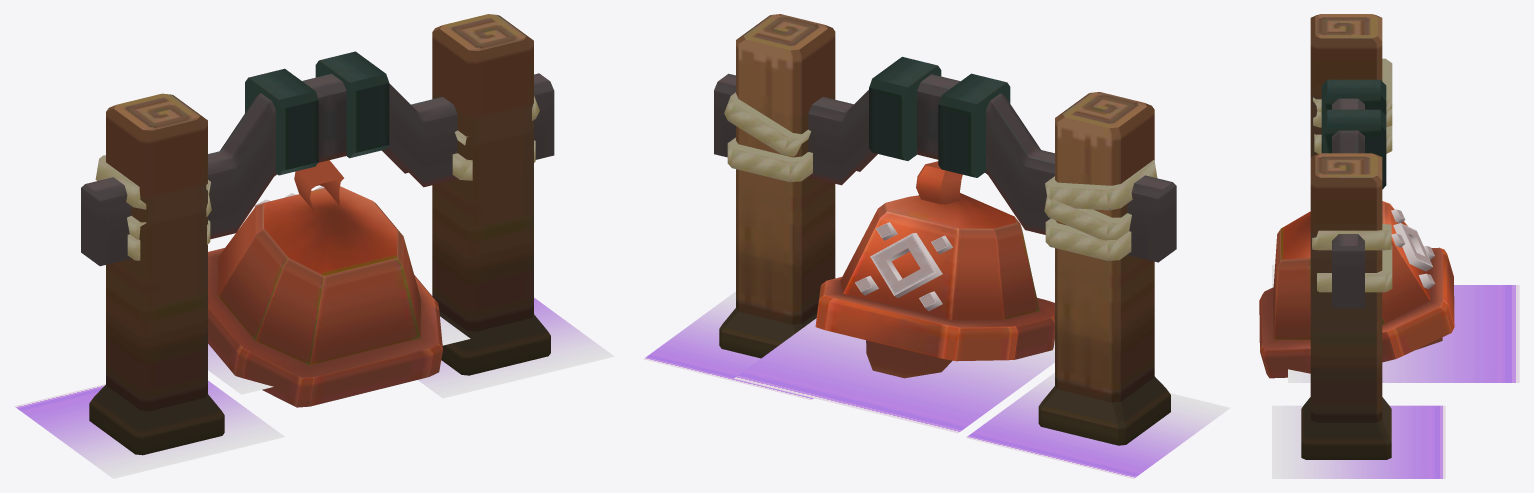
File: [gimmick]bell_orange.fbx
3 renders of one model, left to right at view 1: azimuth 30°, elevation 25°; view 2: azimuth 150°, elevation 25°; view 3: azimuth 270°, elevation 25°, orthographic. The views are drawn at different scales.
Visible parts, largest first — view 1: [gimmick]bell_orange, bell_orange, shadow2, shadow1, shadow; view 2: [gimmick]bell_orange, bell_orange, shadow, shadow2, shadow1; view 3: [gimmick]bell_orange, bell_orange, shadow, shadow1.
Part boxes in pixels (x1,y1,x2,y2): [gimmick]bell_orange: (81, 14, 554, 455); bell_orange: (208, 160, 442, 407); shadow2: (14, 380, 284, 478); shadow1: (418, 297, 614, 398); shadow: (208, 316, 470, 394); [gimmick]bell_orange: (714, 14, 1176, 445); bell_orange: (815, 161, 1054, 378); shadow: (734, 318, 1054, 433); shadow2: (966, 372, 1230, 478); shadow1: (643, 291, 813, 400); [gimmick]bell_orange: (1301, 14, 1392, 459); bell_orange: (1259, 201, 1454, 378); shadow: (1288, 285, 1519, 382); shadow1: (1272, 405, 1445, 478).
Size of the model in its own units: 2.62 by 1.59 by 1.35.
